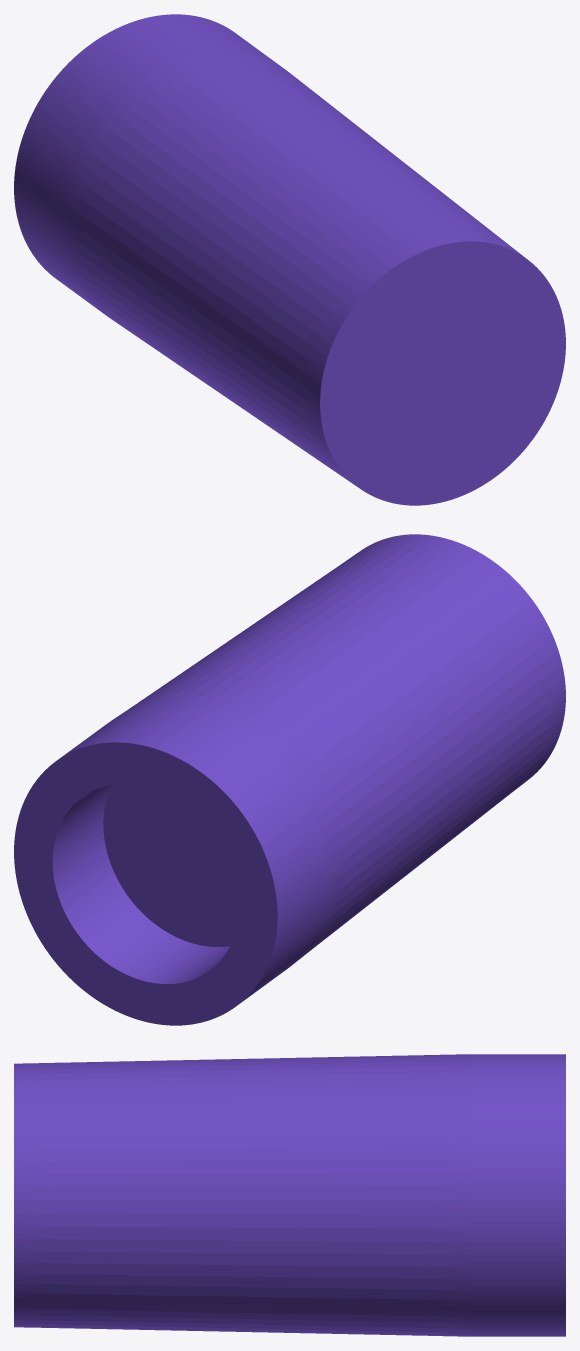
3 views of the same model, one above another, from view 1: azimuth 30°, elevation 25°; view 2: azimuth 150°, elevation 25°; view 3: azimuth 270°, elevation 25° (orthographic). The views are drawn at different scales.
Visible parts, largest first — view 1: node; view 2: node; view 3: node.
Boxes of the visible parts, left/top/right/bottom form: node: left=14, top=14, right=565, bottom=505; node: left=14, top=534, right=565, bottom=1025; node: left=14, top=1054, right=565, bottom=1336.
Bounding box in the file's own units: 0.0617 × 0.0617 × 0.1206.
